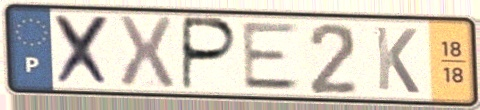2: (305, 20, 362, 97)
E: (239, 21, 305, 92)
K: (372, 24, 422, 97)
P: (179, 14, 241, 93)
X: (114, 13, 179, 91), (51, 12, 115, 89)
